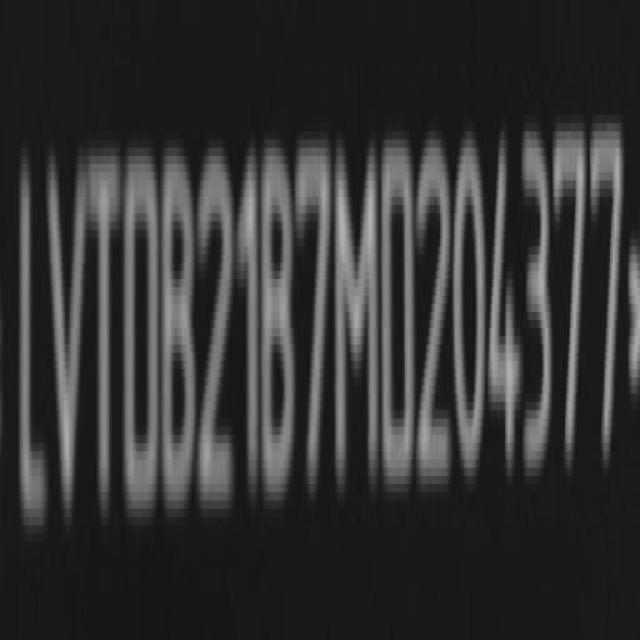0: (451, 120, 486, 495)
1: (236, 126, 261, 519)
2: (198, 137, 239, 524), (415, 124, 452, 499)
3: (520, 112, 556, 516)
4: (486, 128, 523, 498)
7: (298, 126, 334, 511), (593, 112, 627, 484), (556, 113, 590, 484)
B: (259, 130, 298, 514), (162, 137, 198, 529)
D: (121, 139, 161, 530), (382, 129, 418, 503)
L: (13, 147, 48, 538)
M: (334, 123, 379, 506)
T: (88, 140, 121, 526)
V: (45, 144, 97, 535)
